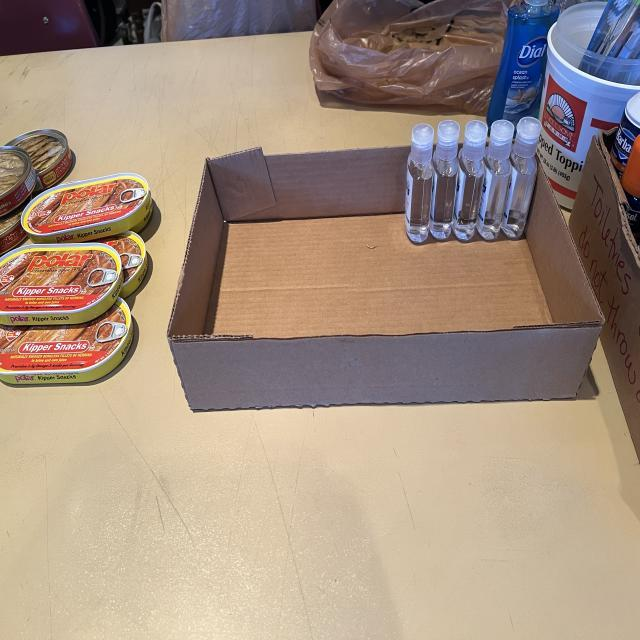Canned Fish: (0, 298, 134, 385), (0, 243, 122, 325), (21, 173, 152, 242), (8, 130, 72, 190), (100, 232, 148, 298), (0, 145, 36, 217), (0, 203, 28, 255)
